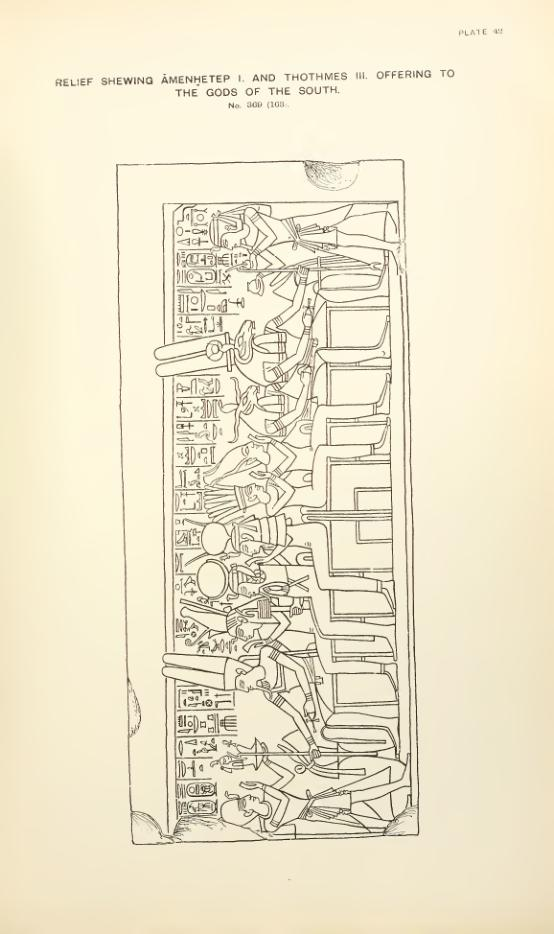circle: (184, 267, 219, 284), (187, 799, 219, 815), (185, 782, 219, 797), (185, 253, 217, 268)
